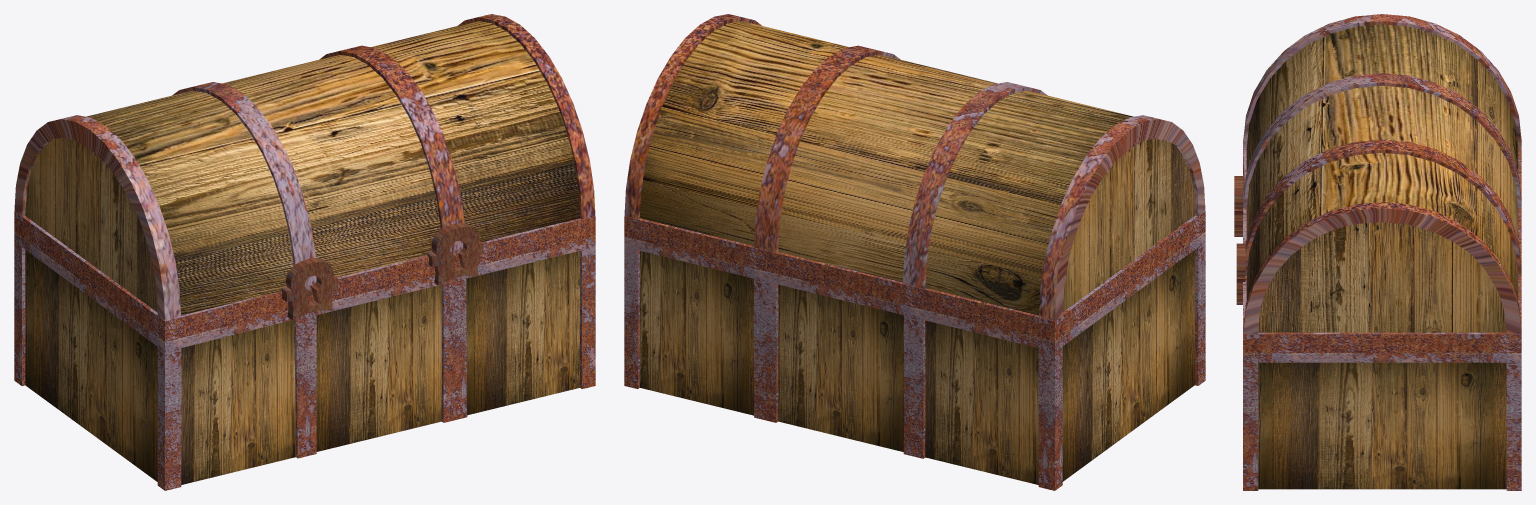
File: coffre.gltf
3 renders of one model, left to right at view 1: azimuth 30°, elevation 25°; view 2: azimuth 150°, elevation 25°; view 3: azimuth 270°, elevation 25°, orthographic. The views are drawn at different scales.
Visible parts, largest first — view 1: Cylinder001, Box001, Line002, Line003; view 2: Cylinder001, Box001; view 3: Cylinder001, Box001, Line002, Line003.
Boxes of the visible parts, x1=… form: Cylinder001: x1=14, y1=14, x2=595, y2=320; Box001: x1=14, y1=211, x2=595, y2=490; Line002: x1=281, y1=258, x2=338, y2=320; Line003: x1=427, y1=223, x2=483, y2=285; Cylinder001: x1=624, y1=14, x2=1205, y2=320; Box001: x1=624, y1=211, x2=1205, y2=490; Cylinder001: x1=1243, y1=14, x2=1521, y2=334; Box001: x1=1243, y1=140, x2=1521, y2=490; Line002: x1=1234, y1=176, x2=1243, y2=236; Line003: x1=1236, y1=243, x2=1245, y2=304.
Bounding box in the file's own units: 1.02 × 0.6898 × 0.6358.
Materials: 4 (4 with a texture image).
